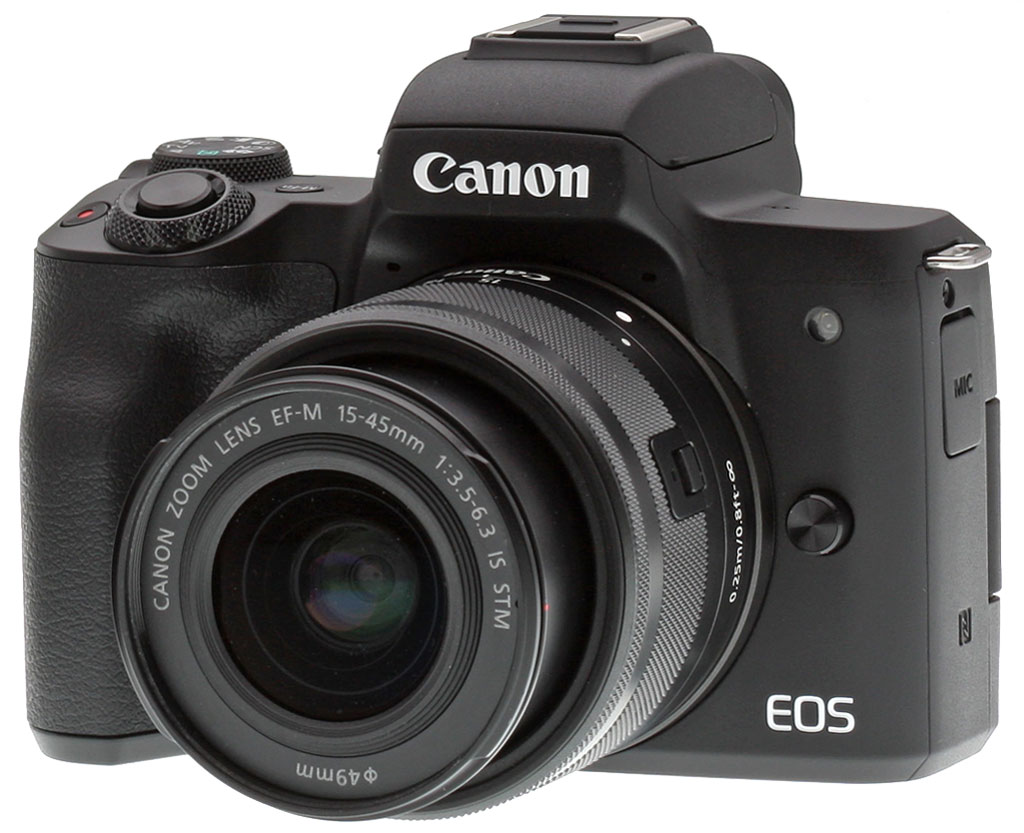kamera: (9, 5, 1009, 822)
